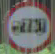Heavy Vehicles: (4, 4, 53, 53)
